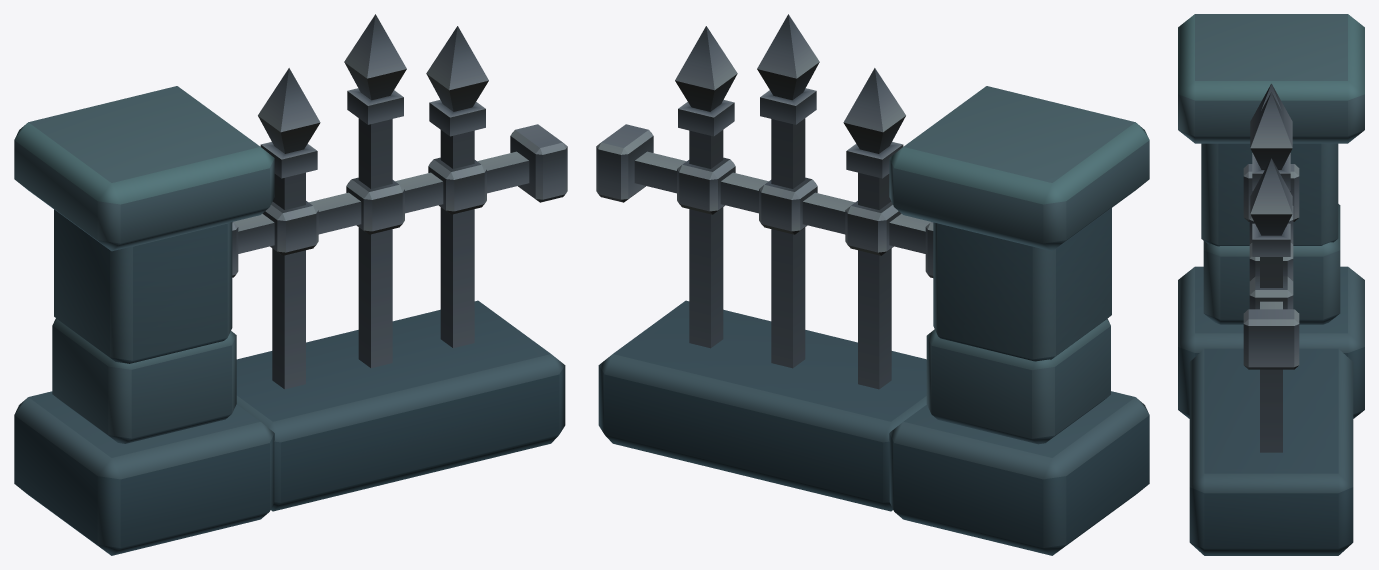
File: fence_element_1.fbx
3 renders of one model, left to right at view 1: azimuth 30°, elevation 25°; view 2: azimuth 150°, elevation 25°; view 3: azimuth 270°, elevation 25°, orthographic. The views are drawn at different scales.
Visible parts, largest first — view 1: fence_element_1; view 2: fence_element_1; view 3: fence_element_1.
Boxes of the visible parts, x1=… form: fence_element_1: x1=14, y1=14, x2=567, y2=555; fence_element_1: x1=596, y1=14, x2=1149, y2=555; fence_element_1: x1=1178, y1=14, x2=1364, y2=555.
Bounding box in the file's own units: 214 × 179 × 75.69.
